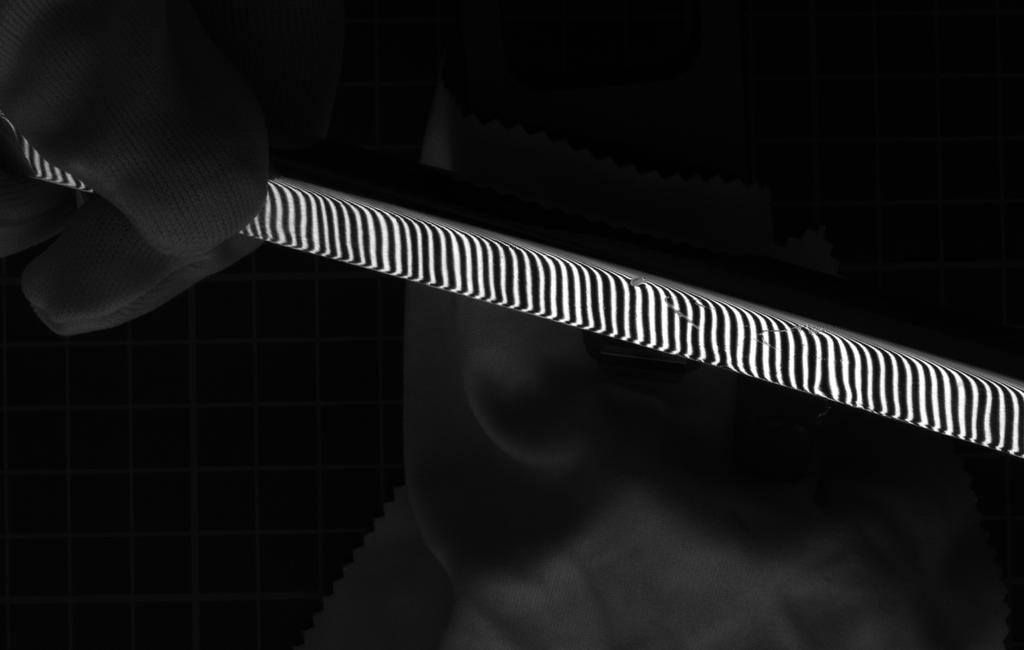Pierced: (628, 270, 646, 291)
Scratch: (748, 317, 830, 366), (660, 289, 721, 342)
